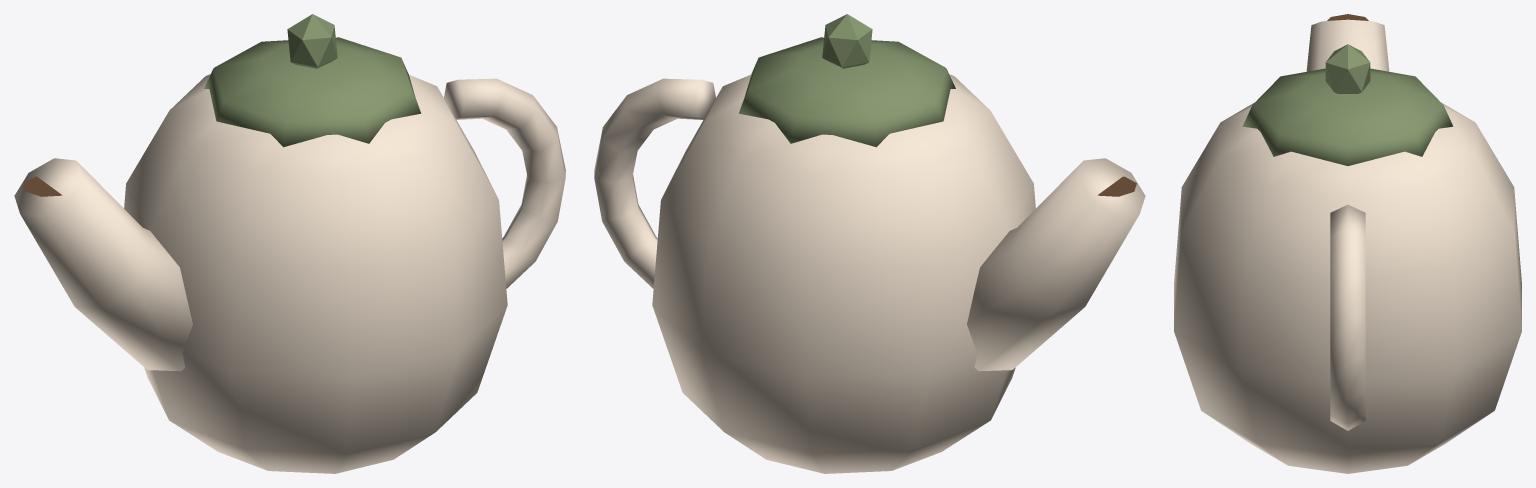
File: teapot.glb
3 views of the same model, side by side, from view 1: azimuth 30°, elevation 25°; view 2: azimuth 150°, elevation 25°; view 3: azimuth 270°, elevation 25° (orthographic). The views are drawn at different scales.
Parts seen in each view (by area): view 1: teapot_body, teapot_spout, teapot_lid, teapot_handle, teapot_lid_knob; view 2: teapot_body, teapot_spout, teapot_lid, teapot_handle, teapot_lid_knob; view 3: teapot_body, teapot_lid, teapot_handle, teapot_spout, teapot_lid_knob.
Part boxes in pixels (bbox=[...]): teapot_body: bbox=[124, 74, 507, 473]; teapot_spout: bbox=[14, 158, 192, 371]; teapot_lid: bbox=[204, 37, 421, 147]; teapot_handle: bbox=[444, 78, 565, 288]; teapot_lid_knob: bbox=[287, 14, 337, 68]; teapot_body: bbox=[652, 74, 1035, 473]; teapot_spout: bbox=[967, 158, 1145, 371]; teapot_lid: bbox=[738, 37, 955, 147]; teapot_handle: bbox=[594, 78, 715, 288]; teapot_lid_knob: bbox=[822, 14, 872, 68]; teapot_body: bbox=[1174, 102, 1521, 473]; teapot_lid: bbox=[1242, 68, 1453, 165]; teapot_handle: bbox=[1330, 204, 1365, 430]; teapot_spout: bbox=[1306, 19, 1389, 71]; teapot_lid_knob: bbox=[1325, 44, 1370, 93].
Bounding box in the file's own units: 0.289 × 0.21 × 0.1712.
